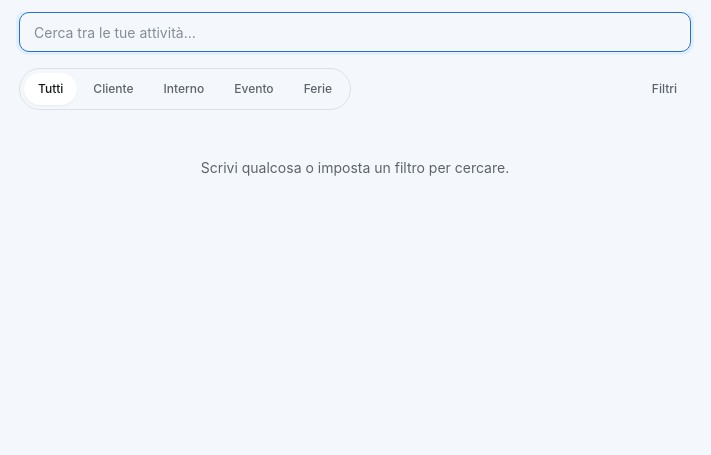
Test case: SearchView › filtra per intervallo di date
Step 1. Click the button "Filtri" → (664, 89), box [638, 73, 691, 105]
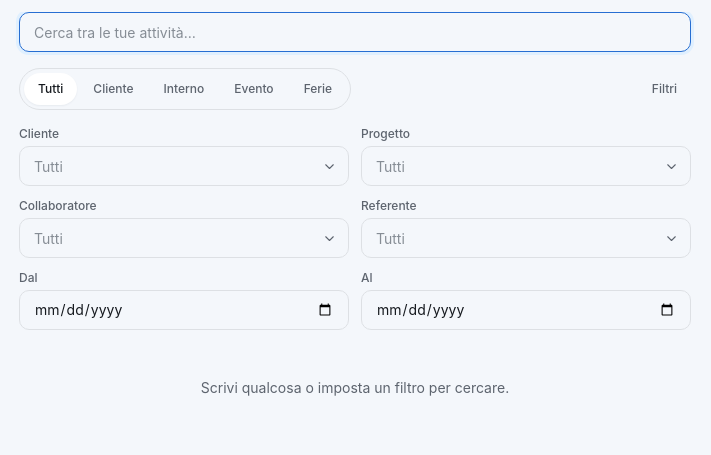
Step 2. Type "2026-04-01" into the date field named "Dal" → (184, 310), box [19, 290, 349, 330]
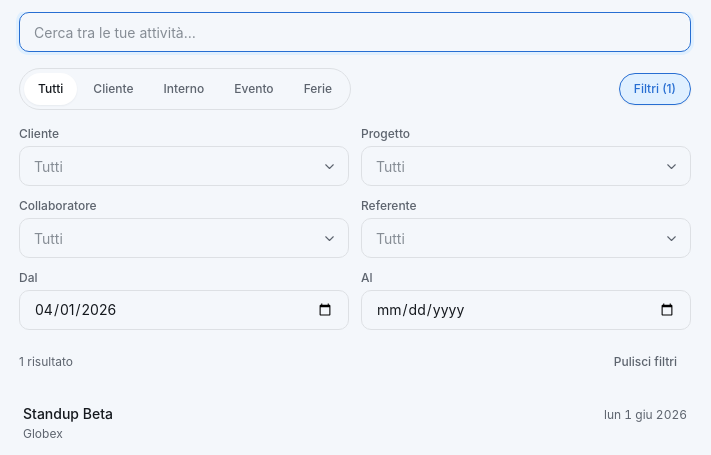
Check: the text "Standup Beta" is shown, box [23, 404, 113, 424]
